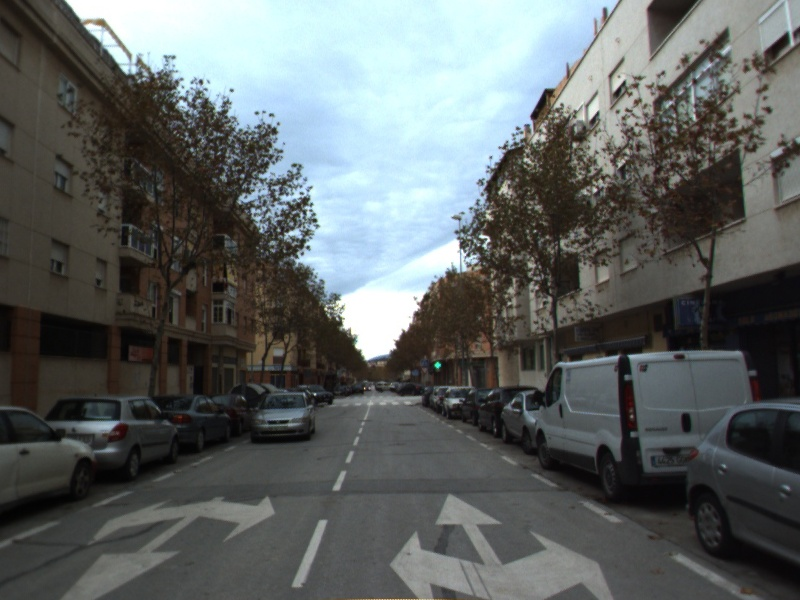STRAIGHT_LEFT_RIGHT: (386, 489, 616, 600)
